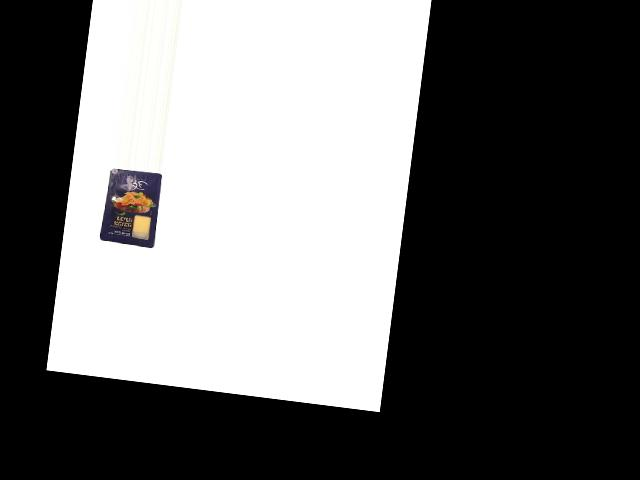cheese: (97, 166, 162, 248)
